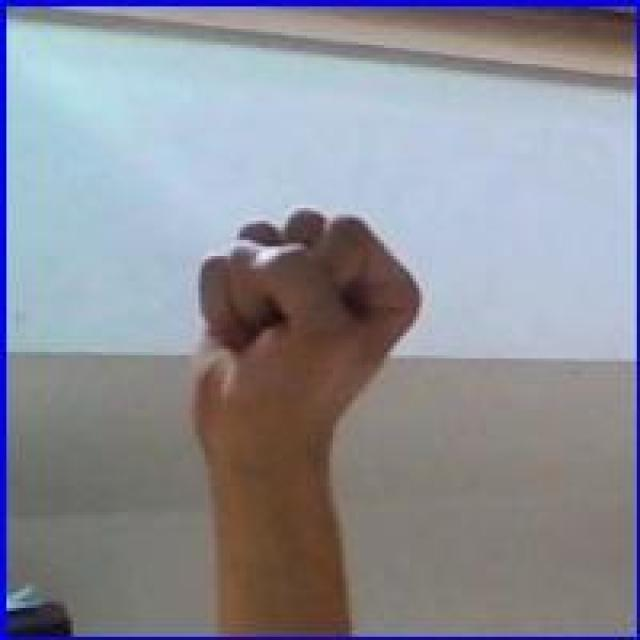S: (181, 200, 427, 485)
